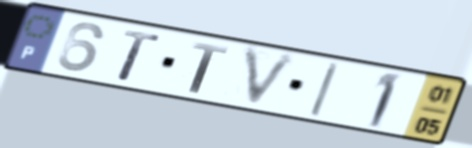1: (369, 71, 405, 131)
6: (56, 21, 108, 74)
I: (305, 60, 343, 120)
T: (115, 27, 163, 84), (187, 39, 231, 96)
V: (240, 44, 303, 112)
